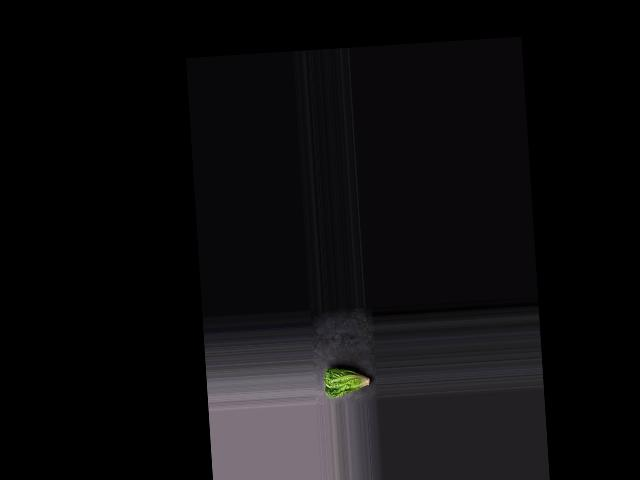lettuce: (323, 364, 374, 399)
